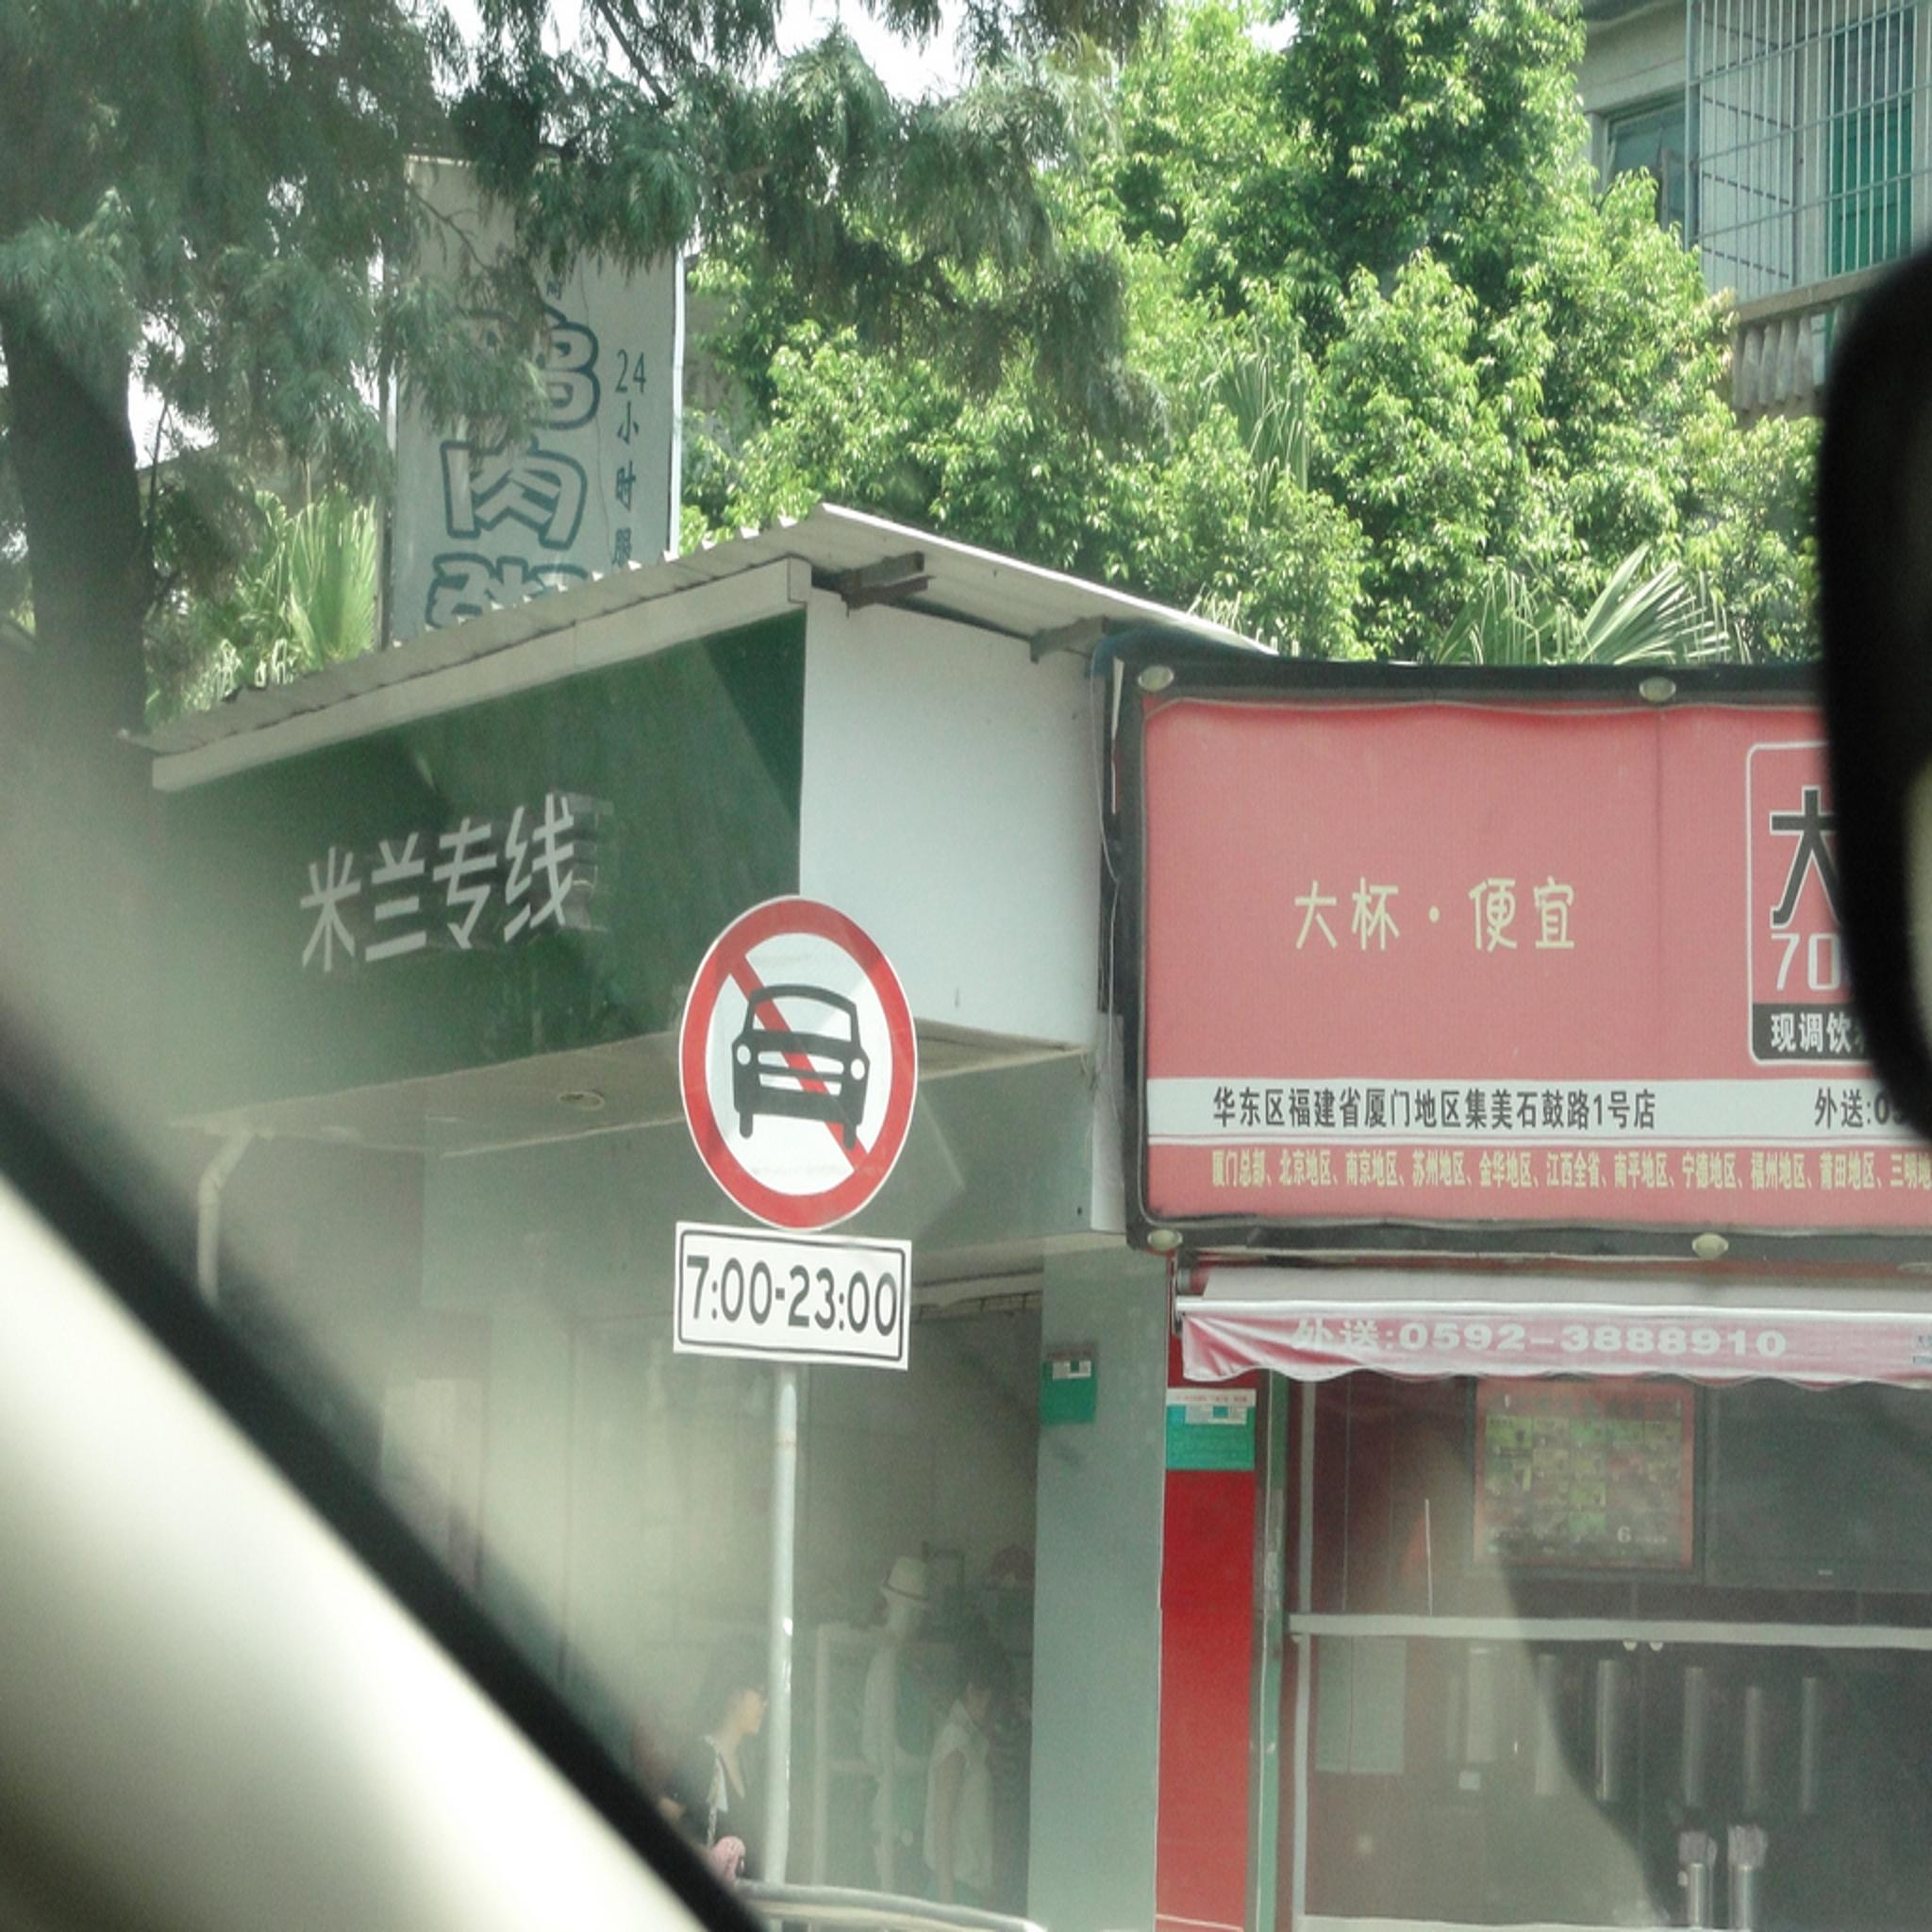p10: (688, 897, 920, 1233)
